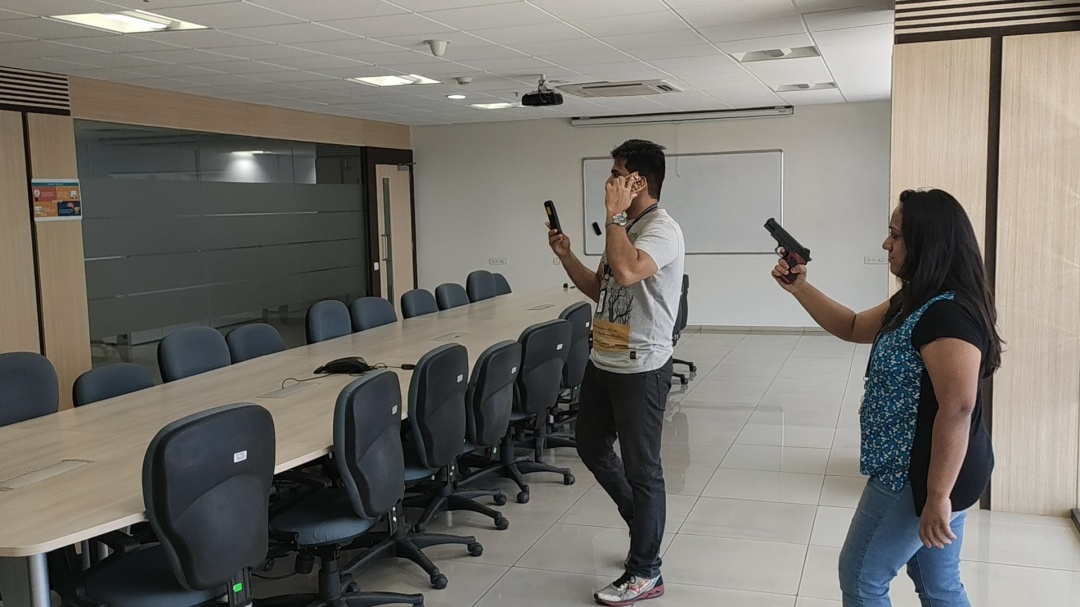gun: (763, 216, 813, 284)
